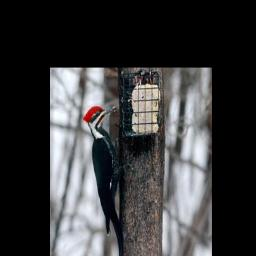Woodpecker: (83, 102, 135, 255)
